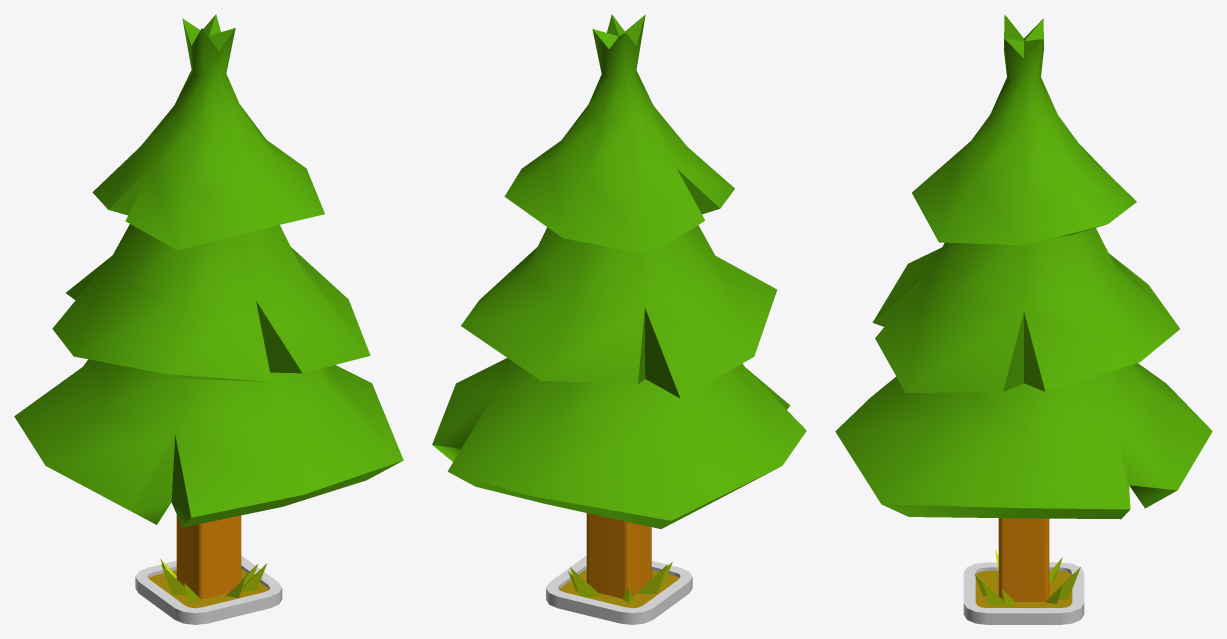
File: tree.fbx
3 renders of one model, left to right at view 1: azimuth 30°, elevation 25°; view 2: azimuth 150°, elevation 25°; view 3: azimuth 270°, elevation 25°, orthographic.
Parts seen in each view (by area): view 1: tree; view 2: tree; view 3: tree.
Part boxes in pixels (x1,y1,x2,y2): tree: [14, 14, 403, 624]; tree: [432, 14, 806, 624]; tree: [835, 14, 1212, 624].
Size of the model in its own units: 508 by 858 by 508.
